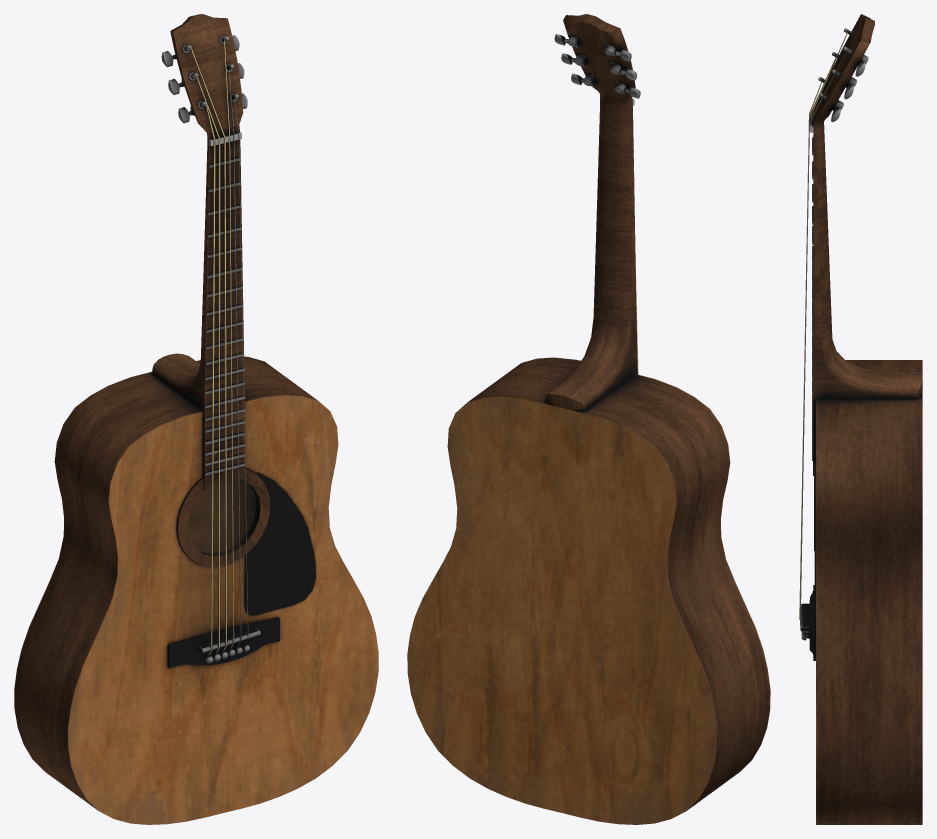
The model's file is guitar.glb.
3 views of the same model, side by side, from view 1: azimuth 30°, elevation 25°; view 2: azimuth 150°, elevation 25°; view 3: azimuth 270°, elevation 25° (orthographic).
Visible parts, largest first — view 1: SM_Acoustic_Guitar; view 2: SM_Acoustic_Guitar; view 3: SM_Acoustic_Guitar.
Part boxes in pixels (x1,y1,x2,y2): SM_Acoustic_Guitar: [14, 14, 378, 824]; SM_Acoustic_Guitar: [407, 14, 770, 824]; SM_Acoustic_Guitar: [799, 14, 922, 824].
Size of the model in its own units: 78.45 by 188 by 27.23.
1 material, 1 textured.
